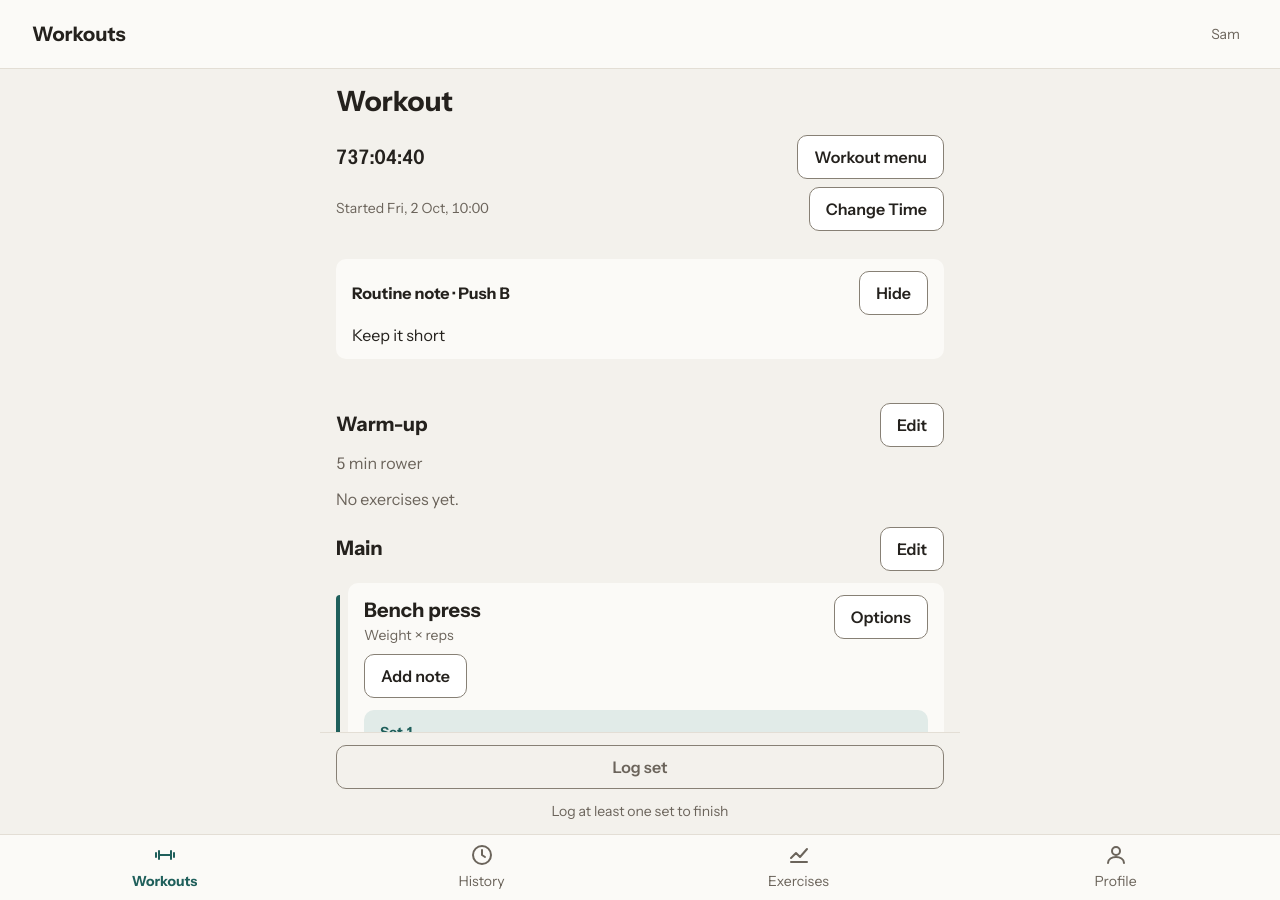
Test: 10.3 AC37 — accessibility (component level): session › the routine-note toggle has aria-expanded and a name that includes its target
Expected: the heading "Workout" is shown, [336,84,453,118]
Click the button with aria-label "Hide routine note".
click(894, 293)  # box [859,271,928,315]
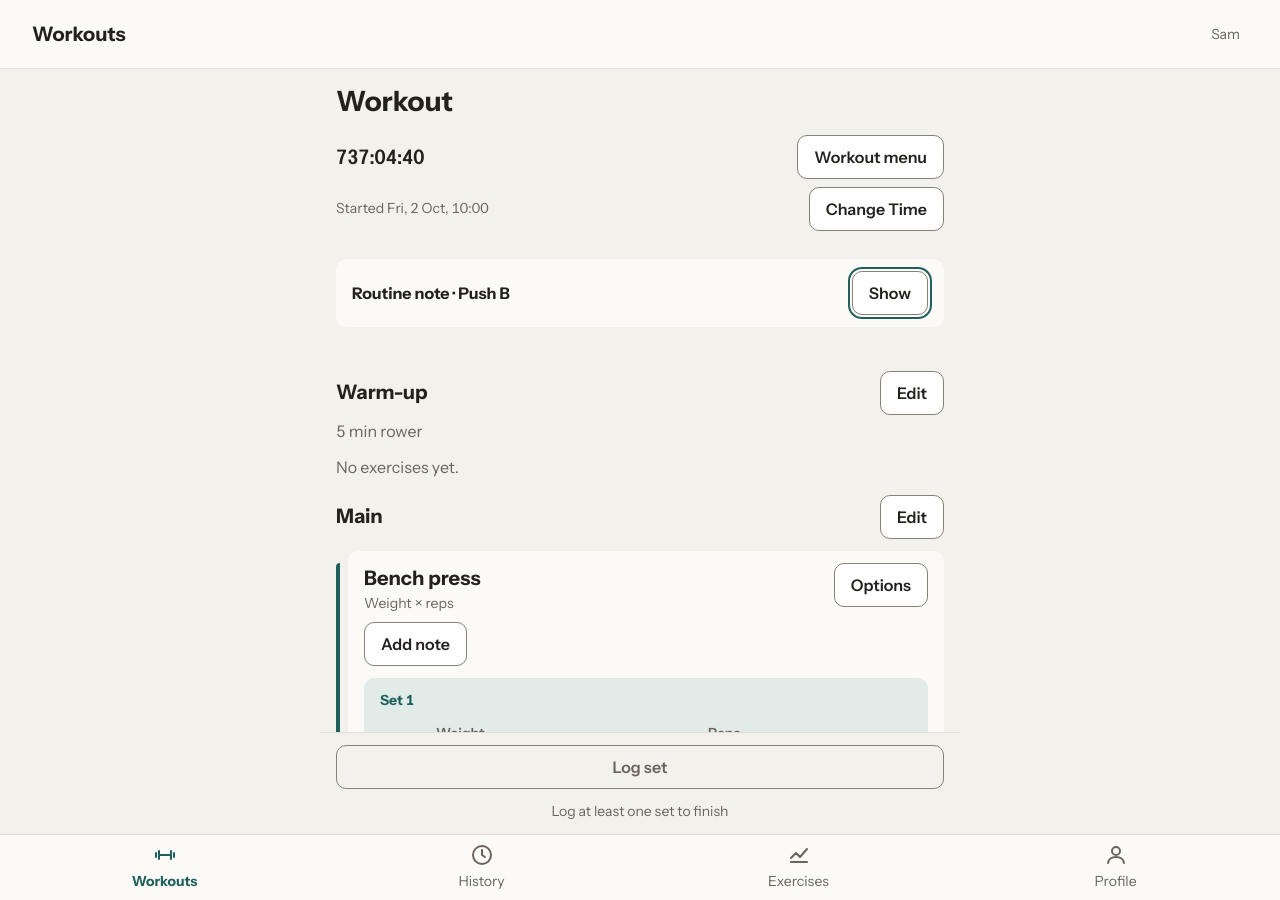
Expected: the button with aria-label "Show routine note" is collapsed, [852,271,928,315]
